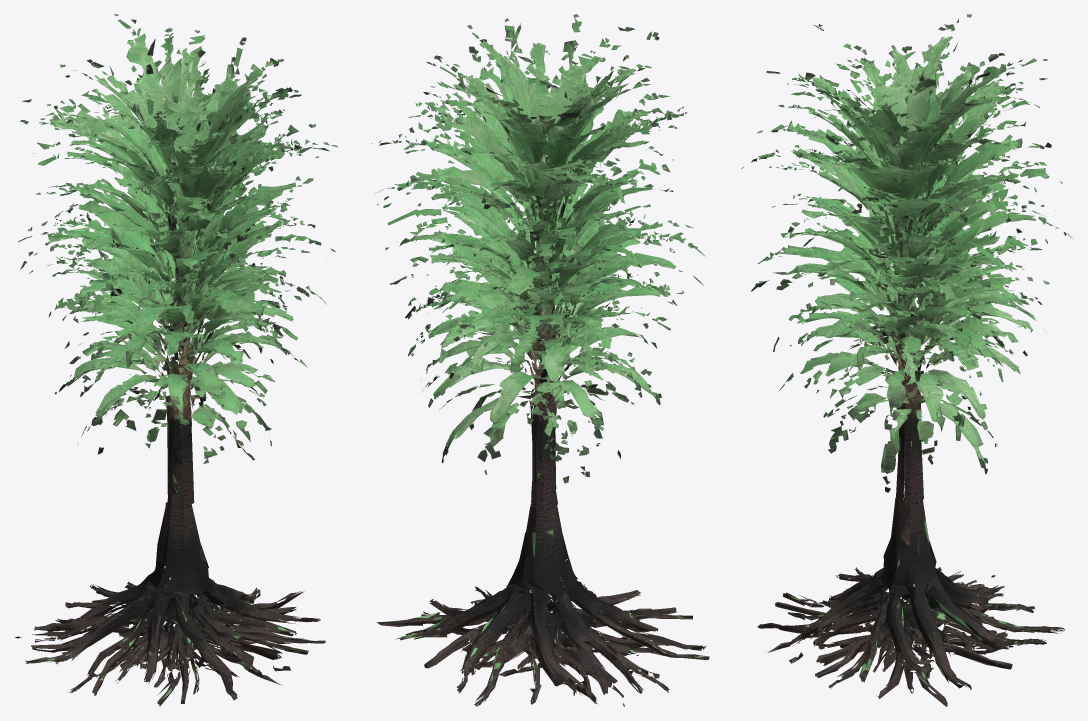
Rendered from veg_tropical_treefern_01.glb.
3 views of the same model, side by side, from view 1: azimuth 30°, elevation 25°; view 2: azimuth 150°, elevation 25°; view 3: azimuth 270°, elevation 25° (orthographic). The views are drawn at different scales.
Parts seen in each view (by area): view 1: veg_tropical_treefern_01; view 2: veg_tropical_treefern_01; view 3: veg_tropical_treefern_01.
Boxes of the visible parts, left/top/right/bottom form: veg_tropical_treefern_01: left=15, top=14, right=338, bottom=706; veg_tropical_treefern_01: left=372, top=14, right=709, bottom=706; veg_tropical_treefern_01: left=741, top=14, right=1072, bottom=706.
Bounding box in the file's own units: 4.47 × 8.74 × 4.5.
1 material, 1 textured.
